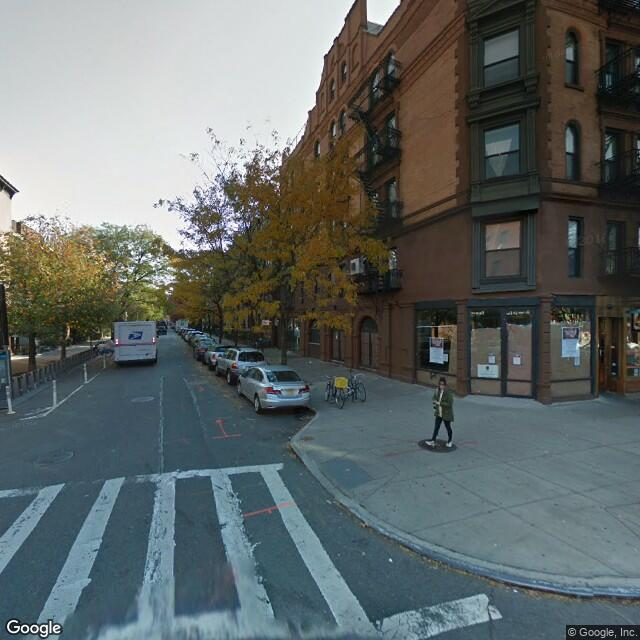litter: (381, 552, 419, 575), (496, 581, 536, 598), (306, 359, 313, 365)
